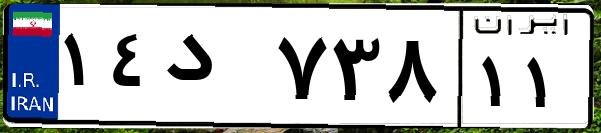1: (57, 26, 110, 100), (475, 38, 525, 113), (525, 38, 570, 115)
3: (330, 28, 385, 110)
4: (110, 28, 158, 98)
7: (270, 28, 330, 110)
8: (385, 28, 445, 110)
د: (158, 20, 270, 120)
